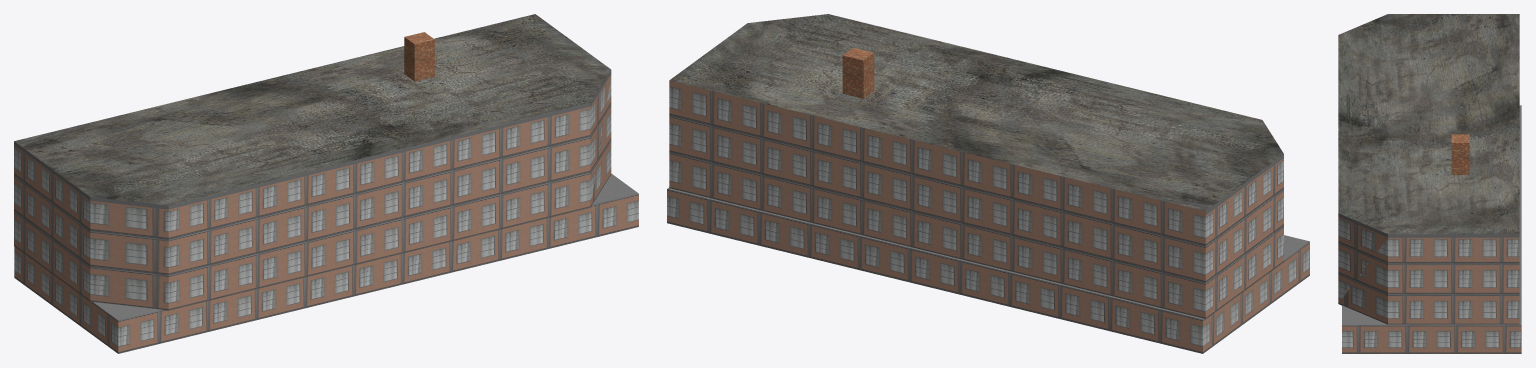
The model's file is LOD01_Building_4stores_Residential.obj.
3 views of the same model, side by side, from view 1: azimuth 30°, elevation 25°; view 2: azimuth 150°, elevation 25°; view 3: azimuth 270°, elevation 25° (orthographic). The views are drawn at different scales.
Parts seen in each view (by area): view 1: LOD01_Building_4stores_Residential; view 2: LOD01_Building_4stores_Residential; view 3: LOD01_Building_4stores_Residential.
Part boxes in pixels (left/top/right/bottom): LOD01_Building_4stores_Residential: left=14, top=14, right=638, bottom=353; LOD01_Building_4stores_Residential: left=667, top=14, right=1309, bottom=353; LOD01_Building_4stores_Residential: left=1338, top=14, right=1521, bottom=353.
Size of the model in its own units: 16.1 by 5.16 by 5.66.
